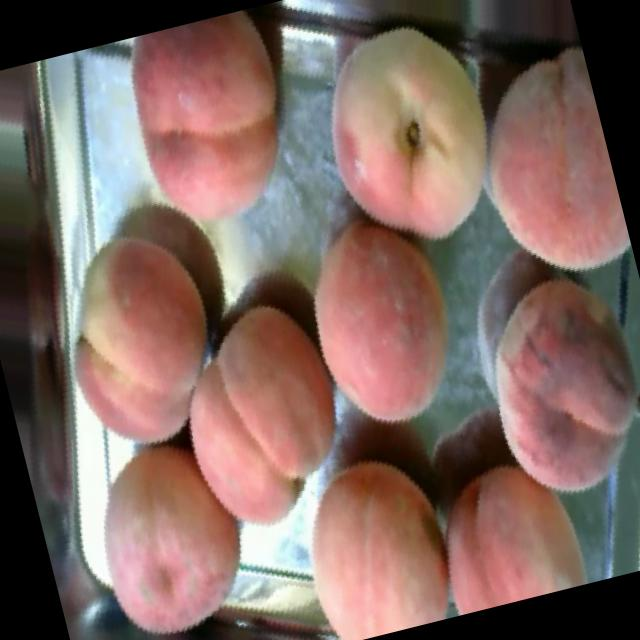Fruit: (281, 0, 548, 283), (12, 191, 269, 484), (128, 271, 368, 567), (430, 232, 640, 535), (89, 3, 334, 262), (424, 35, 640, 327), (280, 180, 507, 456), (41, 404, 286, 640), (256, 423, 477, 640), (420, 426, 614, 616)
